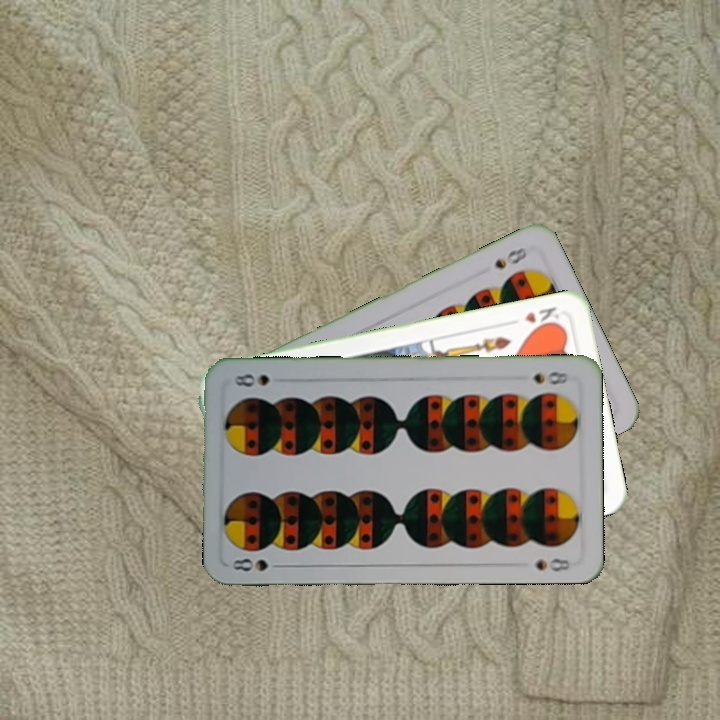HK: (520, 303, 562, 332)
S8: (228, 554, 287, 574), (490, 243, 530, 272), (528, 368, 570, 388)
